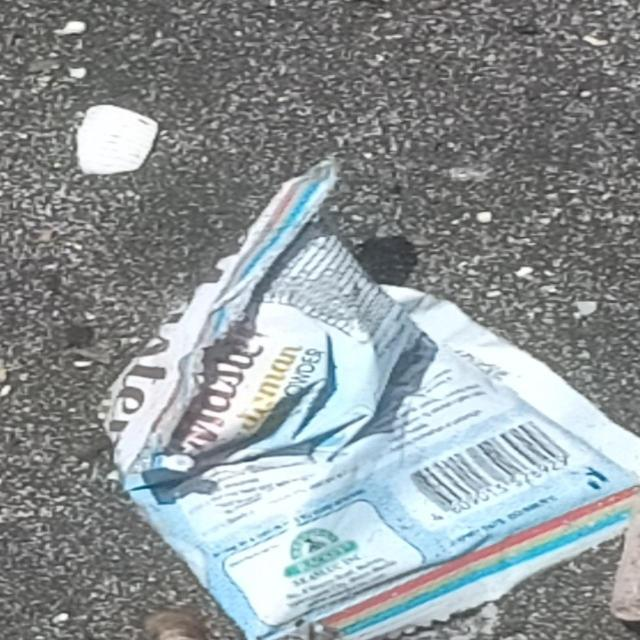plastic_waste: (104, 161, 640, 637)
